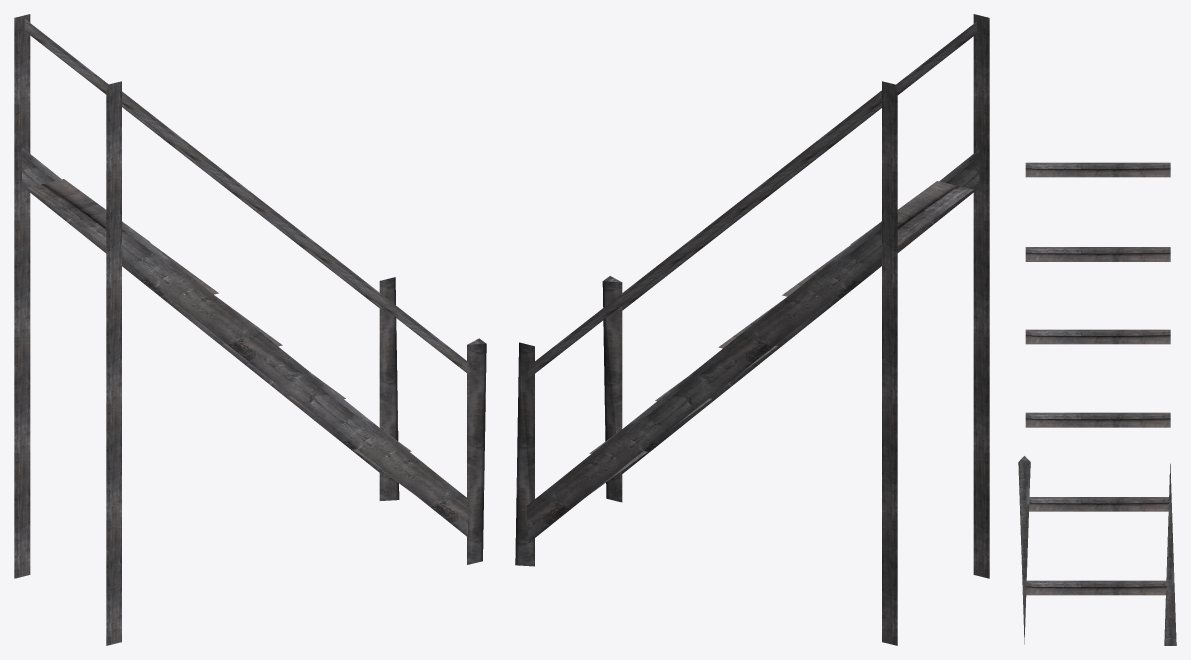
Rendered from v3_stairs2_LOD.dae.
The picture shows the model from 3 angles, left to right: view 1: azimuth 30°, elevation 25°; view 2: azimuth 150°, elevation 25°; view 3: azimuth 270°, elevation 25°; orthographic projection. The views are drawn at different scales.
Visible parts, largest first — view 1: woodPlanks; view 2: woodPlanks; view 3: woodPlanks.
Boxes of the visible parts, box(x1,y1,x2,y2) form: woodPlanks: box(14, 14, 486, 645); woodPlanks: box(515, 14, 989, 645); woodPlanks: box(1018, 162, 1176, 645).
Size of the model in its own units: 2.03 by 2.91 by 0.8759.
